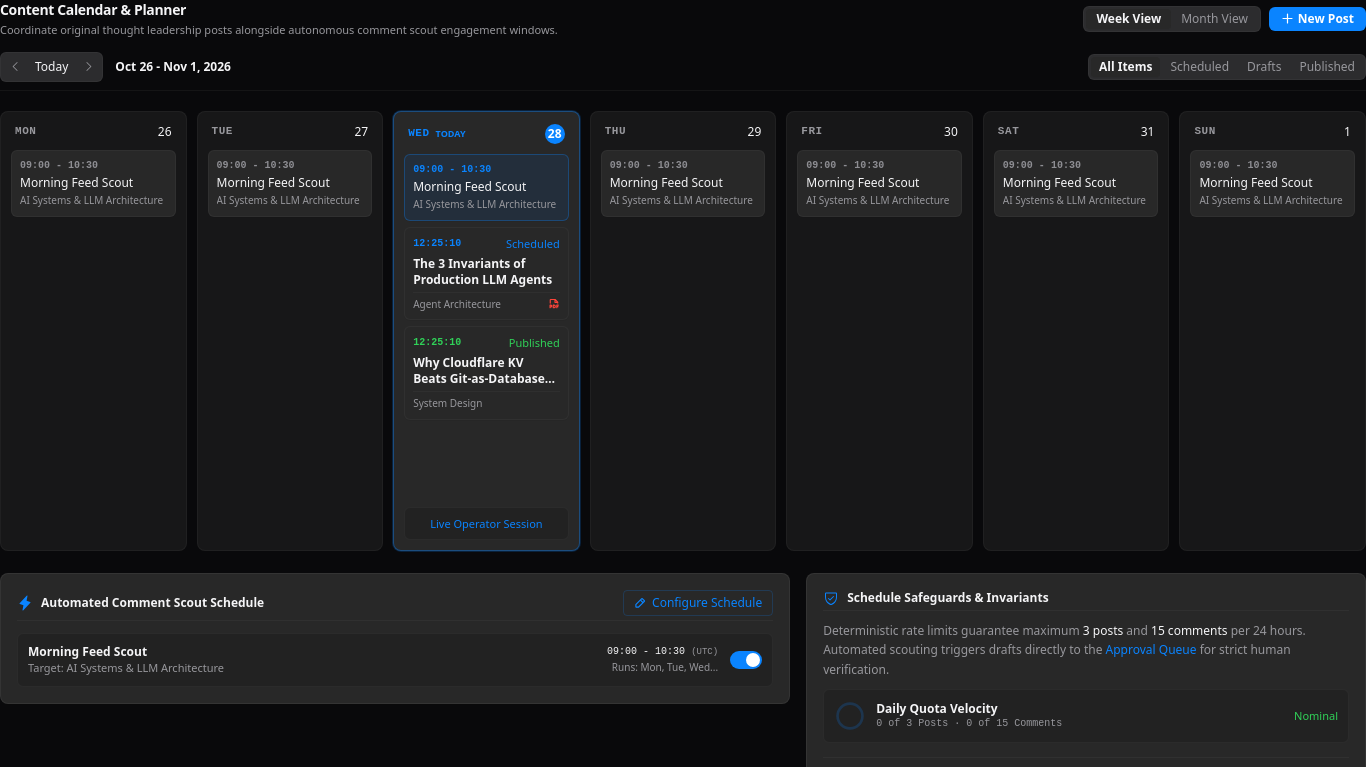
Test: CalendarView › toggles between Week View and Month View
Expected: the element with test id "calendar-week-grid" is shown, [0,111,1365,551]
Note: Switch to month view
Click the button with test id "view-mode-month": (1215, 19) [1171,9,1258,29]
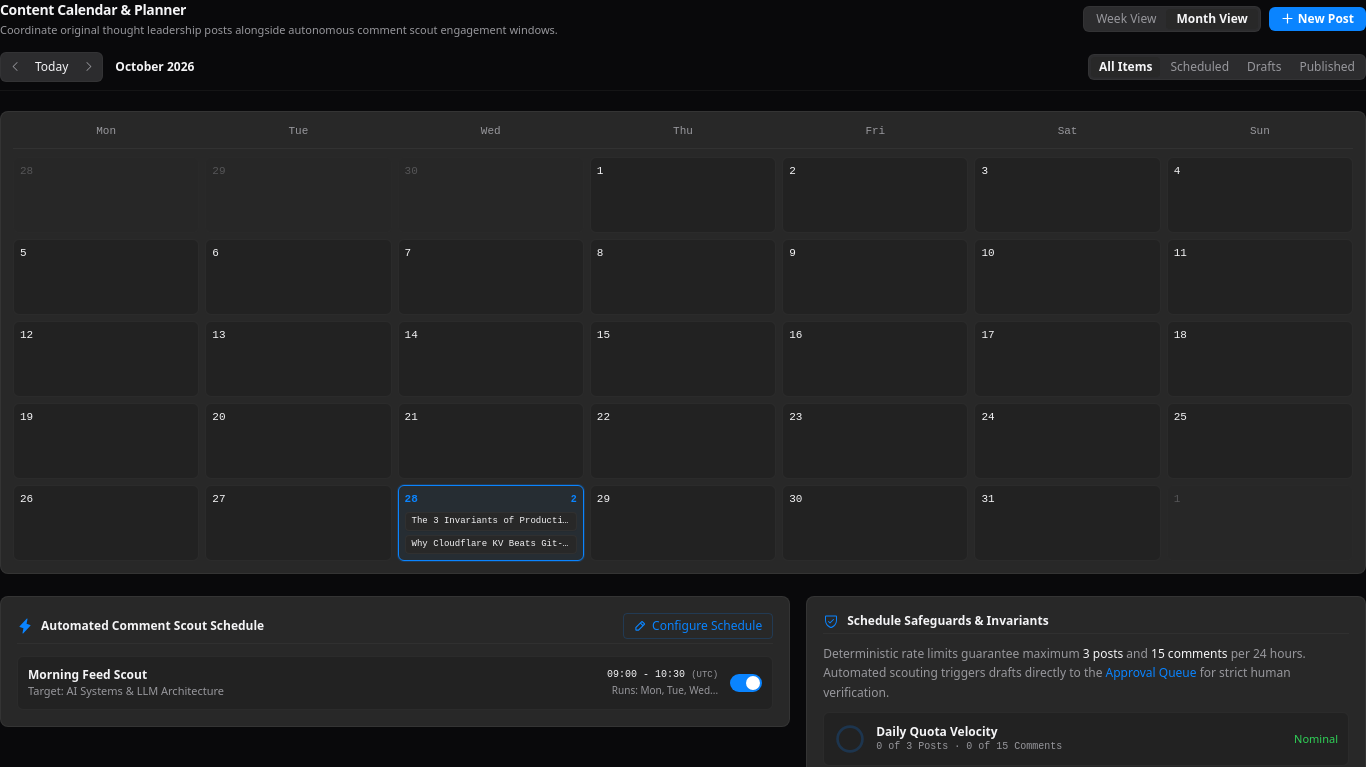
Now the element with test id "calendar-week-grid" is gone
Now the element with test id "calendar-month-grid" is shown
Note: Switch back to week view
Click the button with test id "view-mode-week": (1126, 19) [1086,9,1166,29]
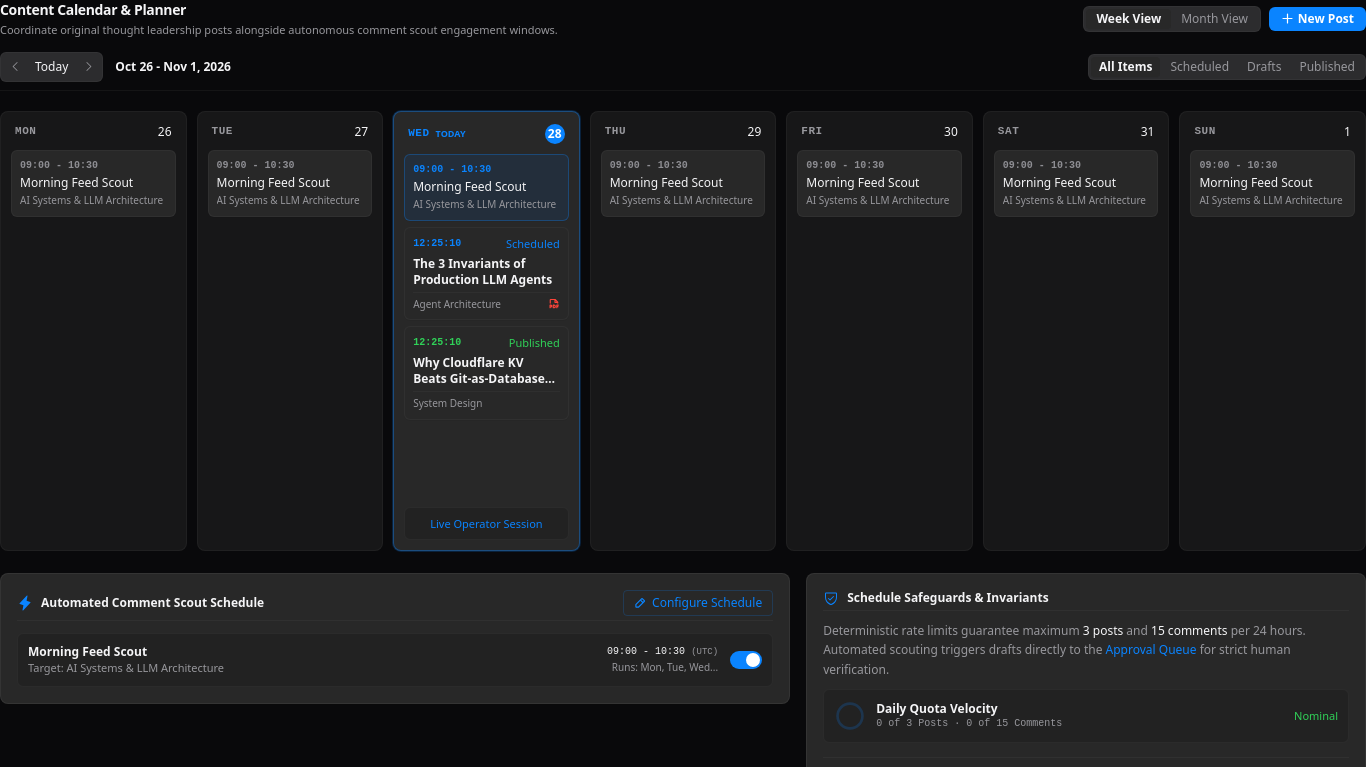
Now the element with test id "calendar-week-grid" is shown, box [0,111,1365,551]
